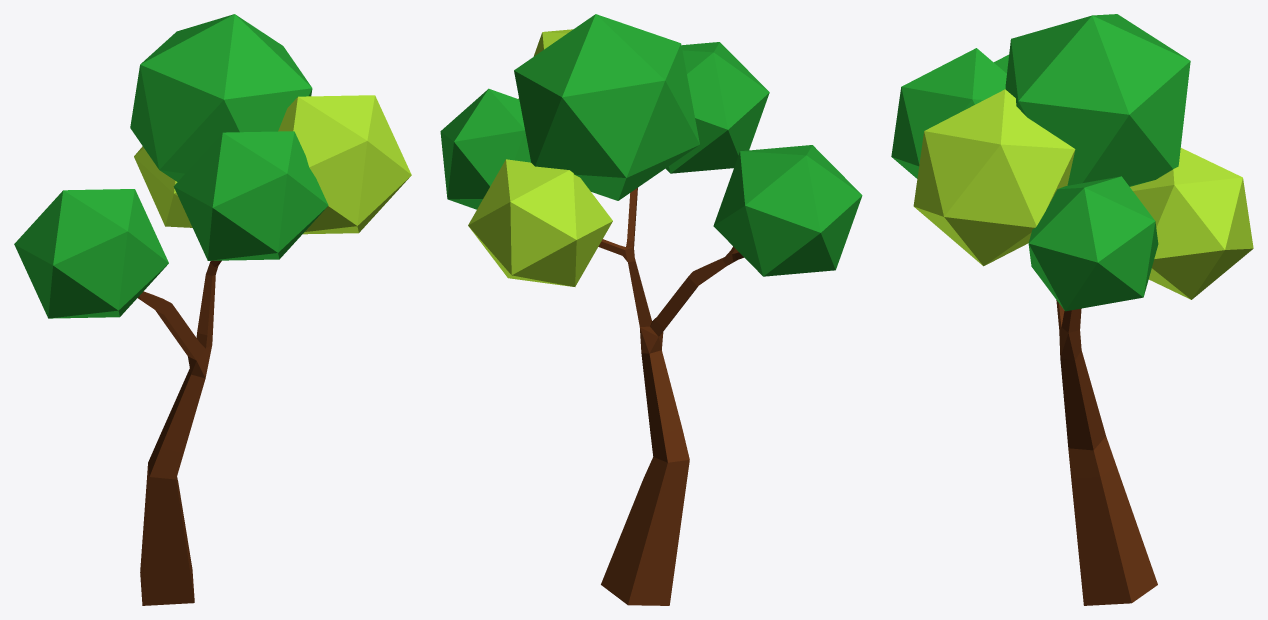
The model's file is Tree_1.glb.
3 views of the same model, side by side, from view 1: azimuth 30°, elevation 25°; view 2: azimuth 150°, elevation 25°; view 3: azimuth 270°, elevation 25° (orthographic). The views are drawn at different scales.
Parts seen in each view (by area): view 1: Tree1Obj; view 2: Tree1Obj; view 3: Tree1Obj.
Boxes of the visible parts, x1,y1,x2,y2 form: Tree1Obj: [14, 14, 411, 605]; Tree1Obj: [440, 14, 862, 605]; Tree1Obj: [891, 14, 1253, 605].
Size of the model in its own units: 6.47 by 9.34 by 4.98.
